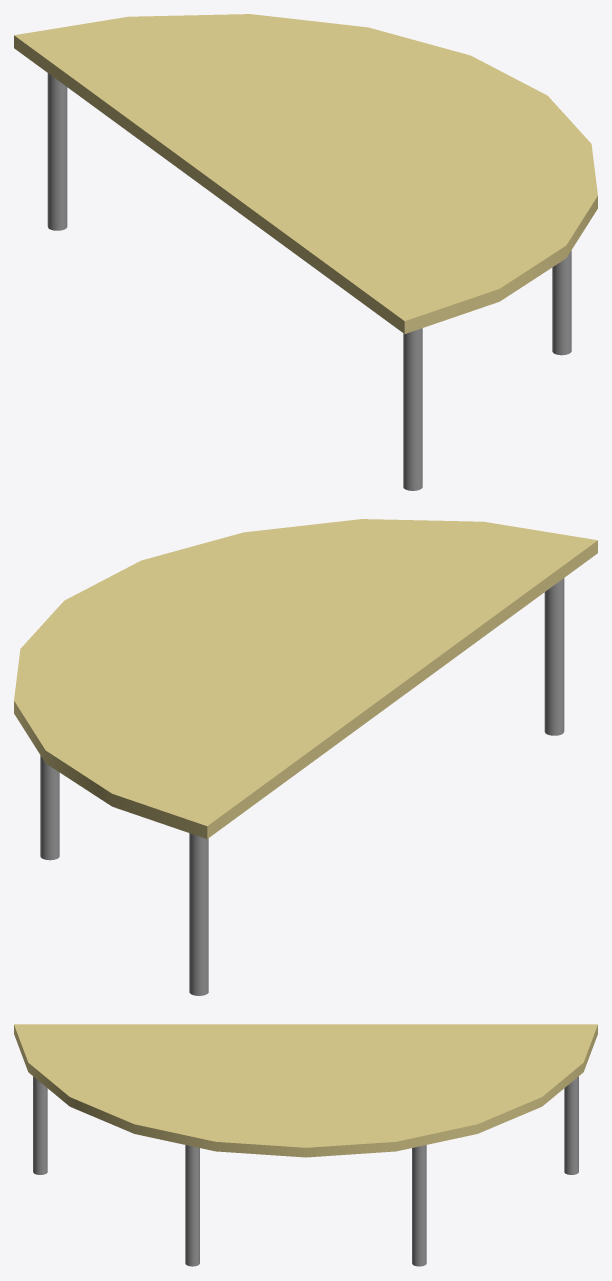
The model's file is TafelAulaRond.fbx.
3 views of the same model, one above another, from view 1: azimuth 30°, elevation 25°; view 2: azimuth 150°, elevation 25°; view 3: azimuth 270°, elevation 25° (orthographic). The views are drawn at different scales.
Visible parts, largest first — view 1: pCylinder1, pCylinder3, pCylinder2, pCylinder4; view 2: pCylinder1, pCylinder2, pCylinder3, pCylinder5; view 3: pCylinder1, pCylinder4, pCylinder5, pCylinder2, pCylinder3.
Boxes of the visible parts, x1,y1,x2,y2 form: pCylinder1: (14,14,597,333); pCylinder3: (403,328,422,490); pCylinder2: (47,73,67,230); pCylinder4: (552,250,571,355); pCylinder1: (14,519,597,838); pCylinder2: (189,833,208,995); pCylinder3: (544,578,564,735); pCylinder5: (40,755,59,860); pCylinder1: (14,1024,597,1157); pCylinder4: (185,1145,199,1266); pCylinder5: (412,1145,426,1266); pCylinder2: (564,1076,578,1174); pCylinder3: (33,1076,47,1174).
Size of the model in its own units: 4 by 2.09 by 8.
